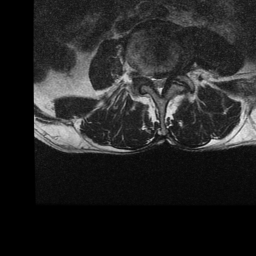CCS_normal: (156, 71, 162, 99)
LFS_severe_stenosis: (168, 65, 175, 86)
LLS_severe_stenosis: (162, 70, 168, 91)
RFS_severe_stenosis: (142, 67, 150, 84)
RLS_severe_stenosis: (150, 71, 156, 90)
